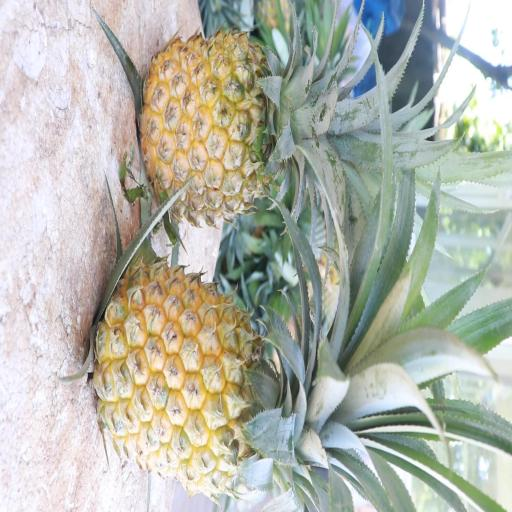Pineapple - v8 v1: (88, 258, 361, 500), (136, 21, 359, 233)
